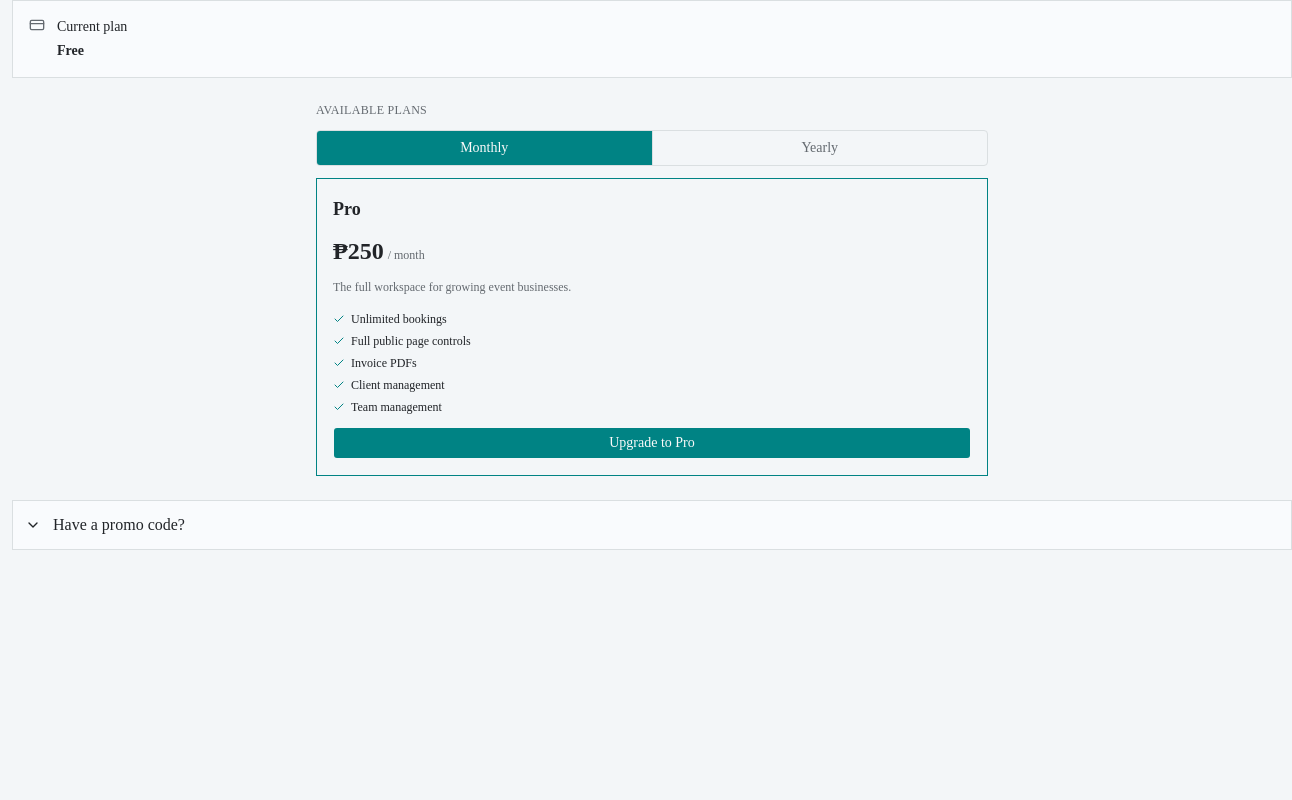
Scenario: BillingPanel — upgrade checkout › shows an error and does not crash when lemon.js hasn't loaded yet
Click the button with aria-label "upgrade to the pro plan": (652, 443) [333,427,971,459]
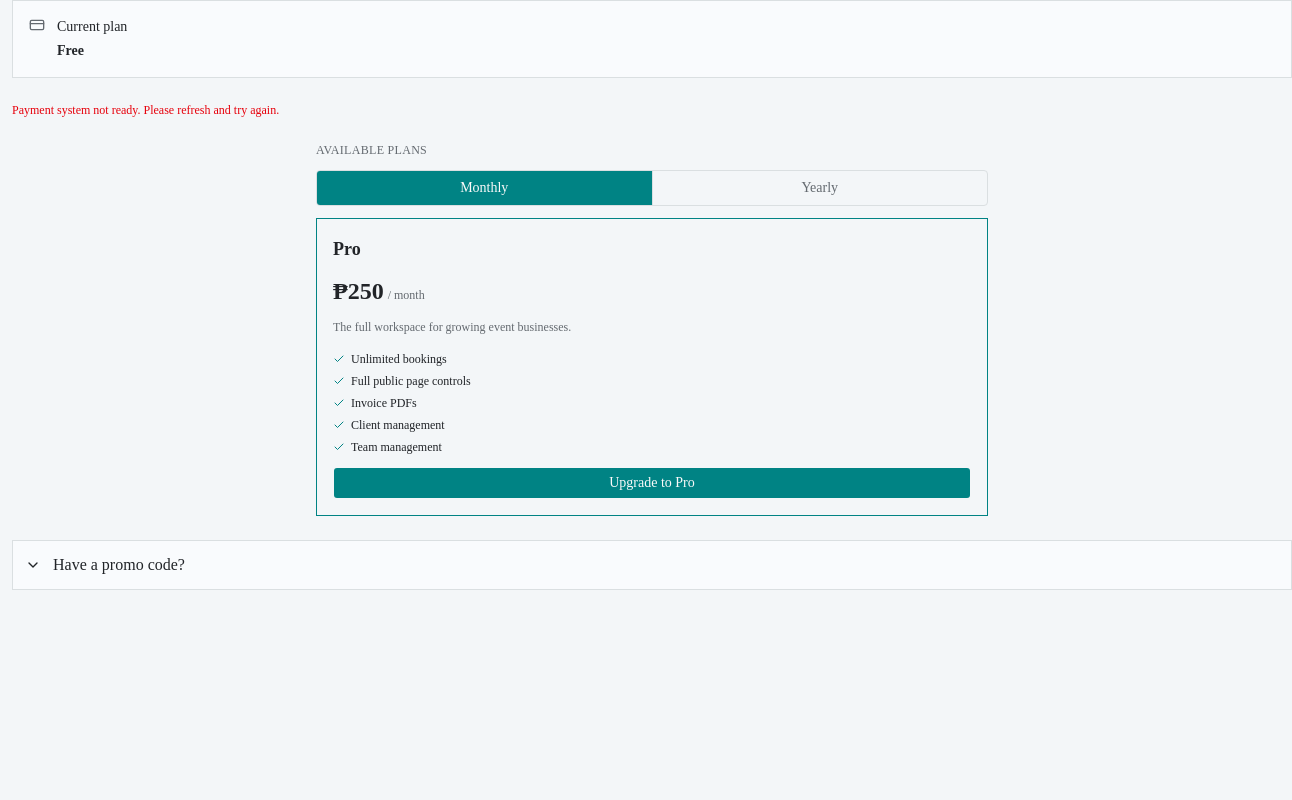
Result: the message "Payment system not ready. Please refresh and try again." is shown at [12,103,279,117]
